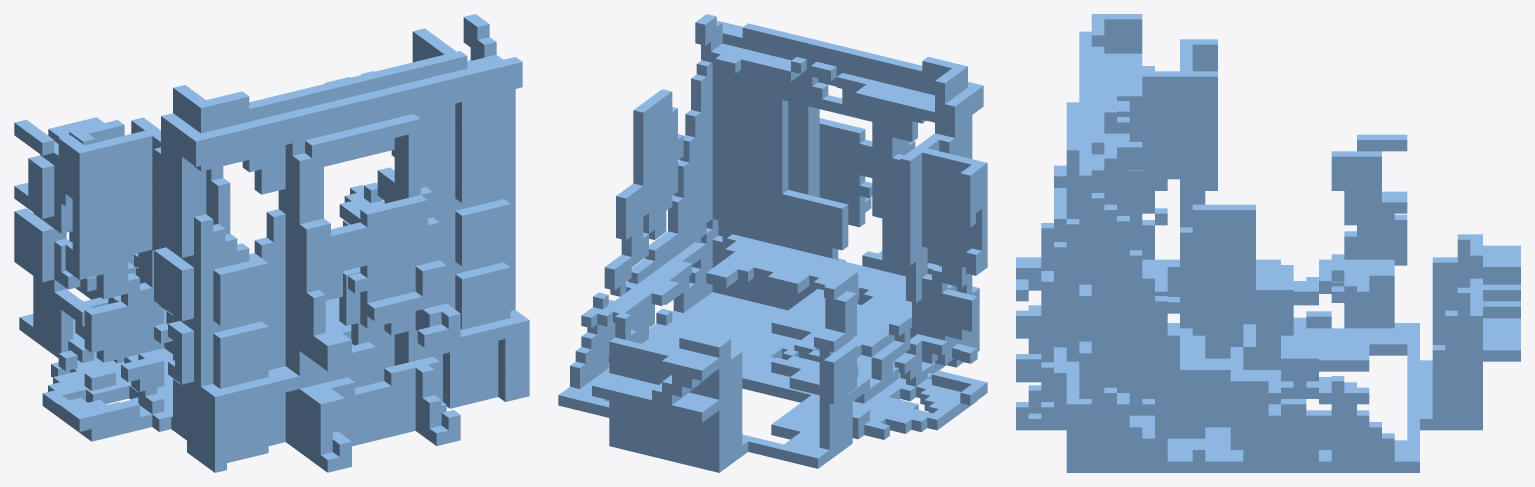
File: building_1_damage.gltf
3 renders of one model, left to right at view 1: azimuth 30°, elevation 25°; view 2: azimuth 150°, elevation 25°; view 3: azimuth 270°, elevation 25°, orthographic. The views are drawn at different scales.
Parts seen in each view (by area): view 1: Layer.1; view 2: Layer.1; view 3: Layer.1.
Boxes of the visible parts, bbox=[...] form: Layer.1: bbox=[14, 14, 529, 472]; Layer.1: bbox=[558, 14, 987, 472]; Layer.1: bbox=[1016, 14, 1520, 472].
Bounding box in the file's own units: 32 × 28 × 40.
Materials: 1 (1 with a texture image).
